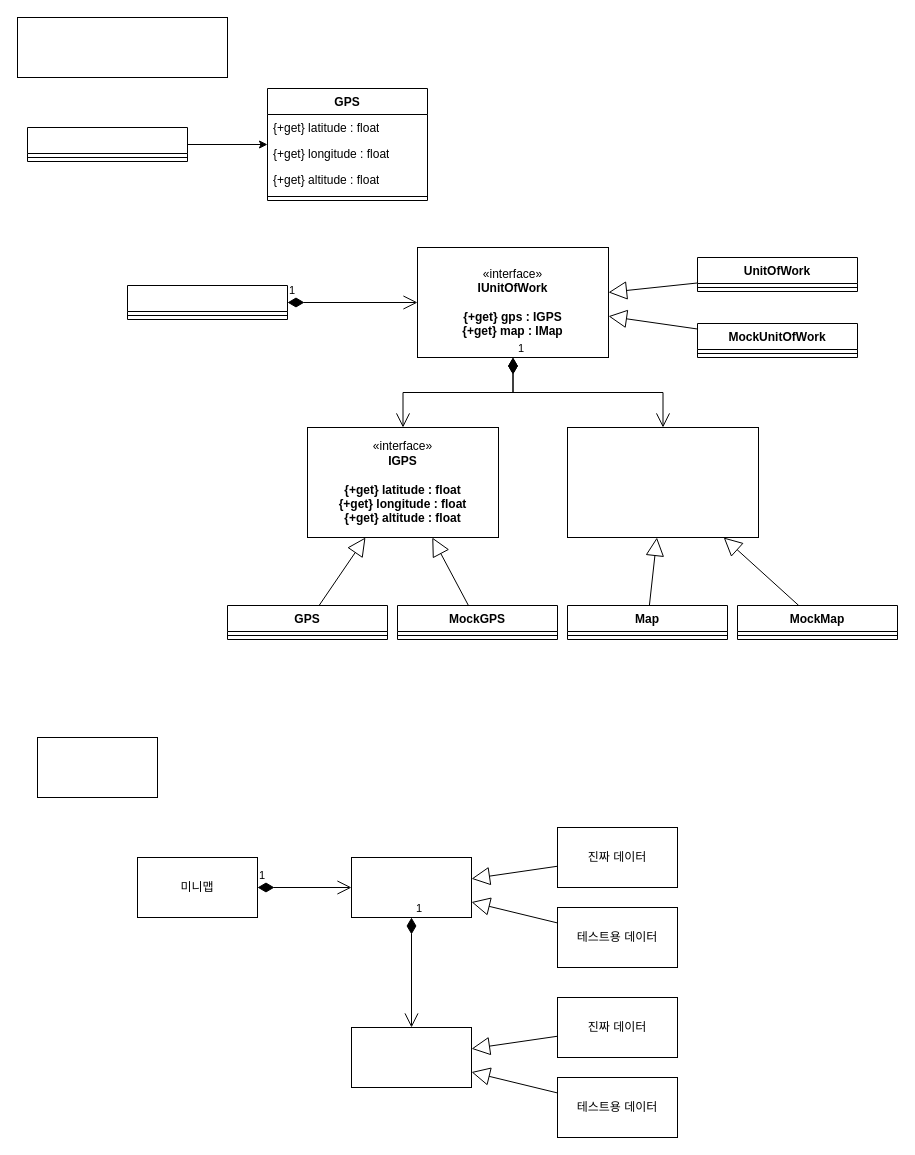
Image size: 915x1155. Some labels were removed from this diagram. The centre of each missing label's shape, as x and y in pixels:
Content: pixel 107 144
GPS 데이터: pixel 411 1057
MinimapSystems: pixel 97 767
Unit Test (TDD- Test-Driven-Development): pixel 122 47
Work: pixel 207 302
«interface» IMap {+get} currentTexture : Texture2D: pixel 662 482
미니맵 작업을 위한 데이터들: pixel 411 887
